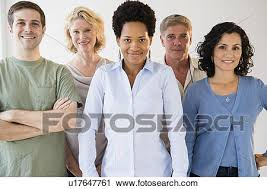person: (102, 1, 170, 102), (197, 20, 260, 102), (153, 15, 210, 93), (5, 4, 61, 78), (59, 8, 113, 80)
